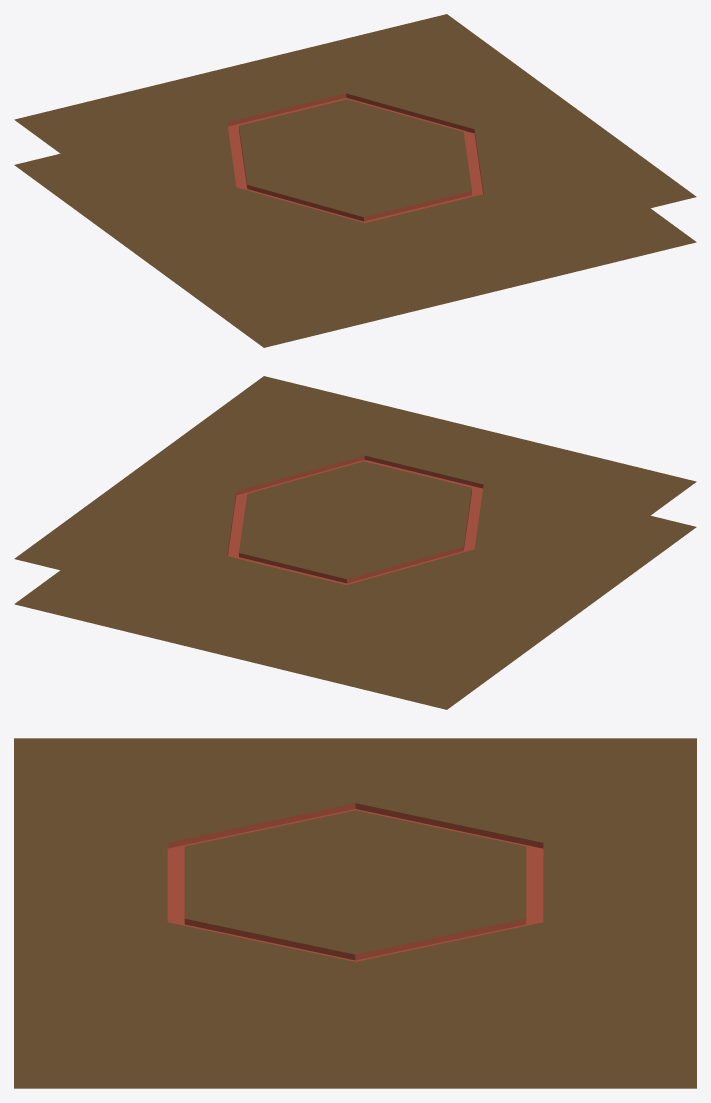
File: FloorPattern2-Atl.fbx
3 views of the same model, one above another, from view 1: azimuth 30°, elevation 25°; view 2: azimuth 150°, elevation 25°; view 3: azimuth 270°, elevation 25° (orthographic). The views are drawn at different scales.
Parts seen in each view (by area): view 1: Floor pattern 2; view 2: Floor pattern 2; view 3: Floor pattern 2.
Boxes of the visible parts, <box> form: Floor pattern 2: <box>14,14,696,347</box>; Floor pattern 2: <box>14,376,696,709</box>; Floor pattern 2: <box>14,738,696,1088</box>.
Size of the model in its own units: 200 by 20 by 200.
